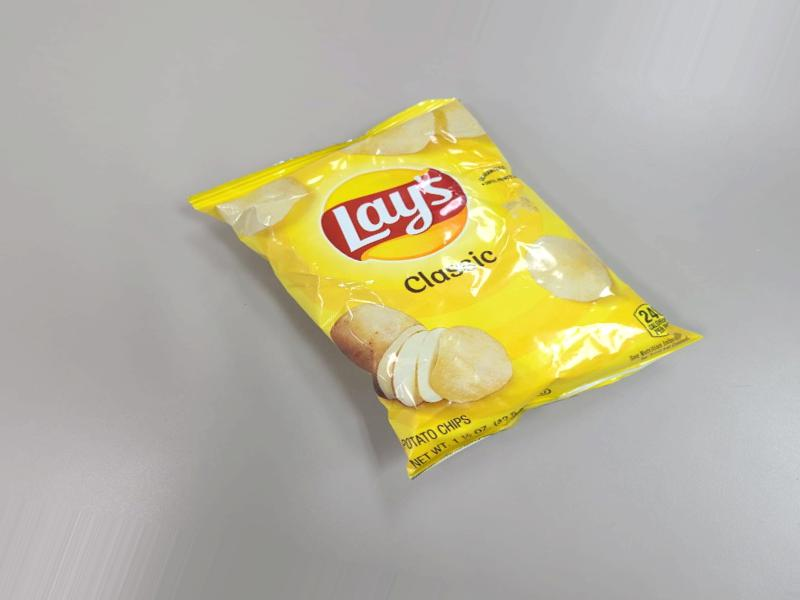lays: (261, 78, 751, 473)
